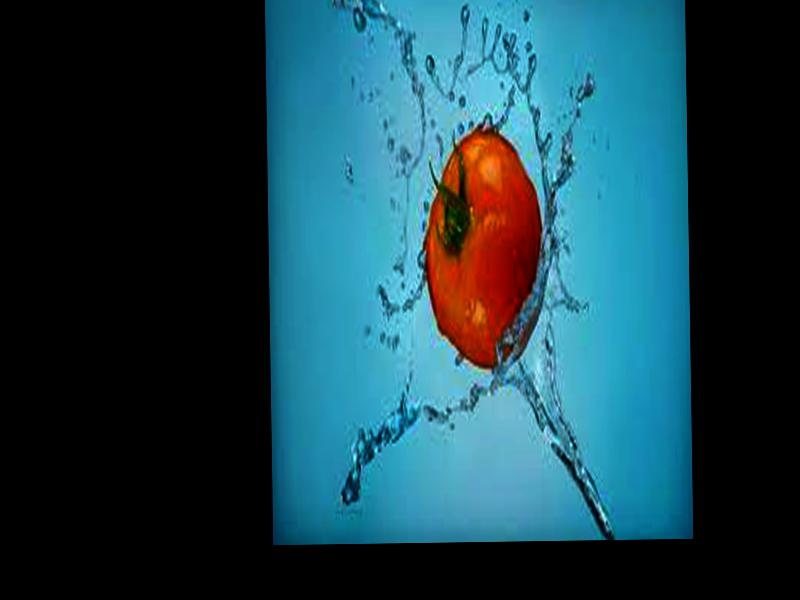Tomato: (424, 126, 545, 368)
